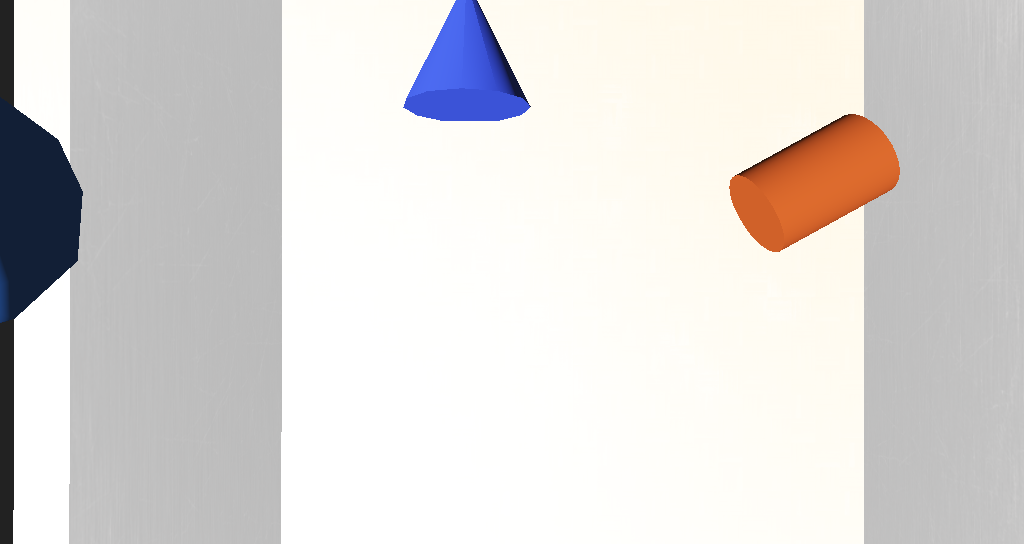cone: (583, 212, 670, 265)
cylinder: (421, 160, 482, 212)
sphere: (232, 224, 320, 282)
